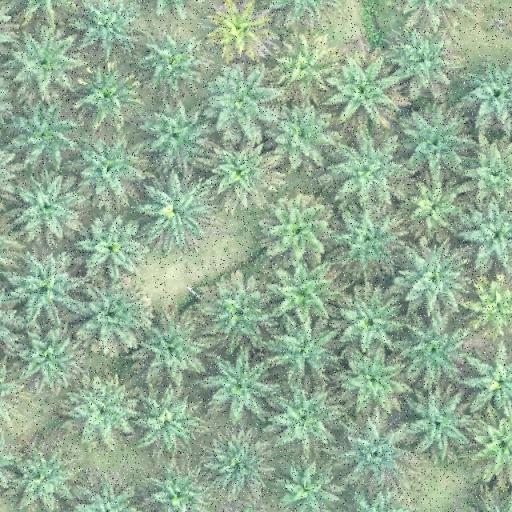Ganoderma: (216, 6, 267, 52)
